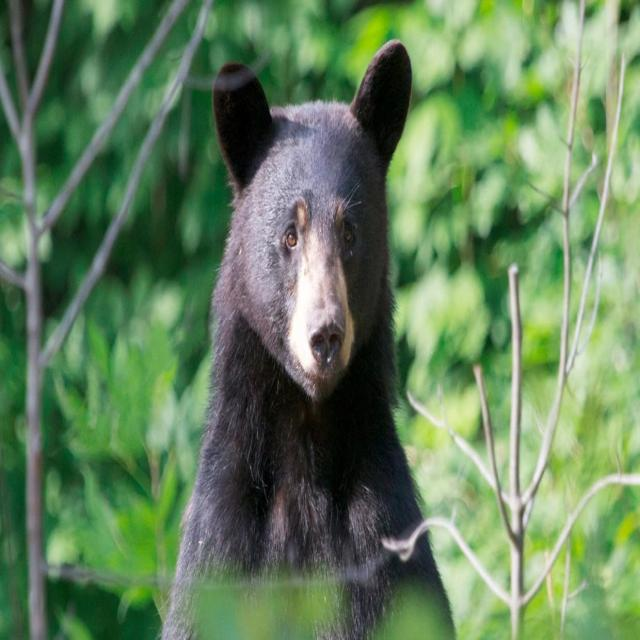Bear: (158, 41, 457, 640)
